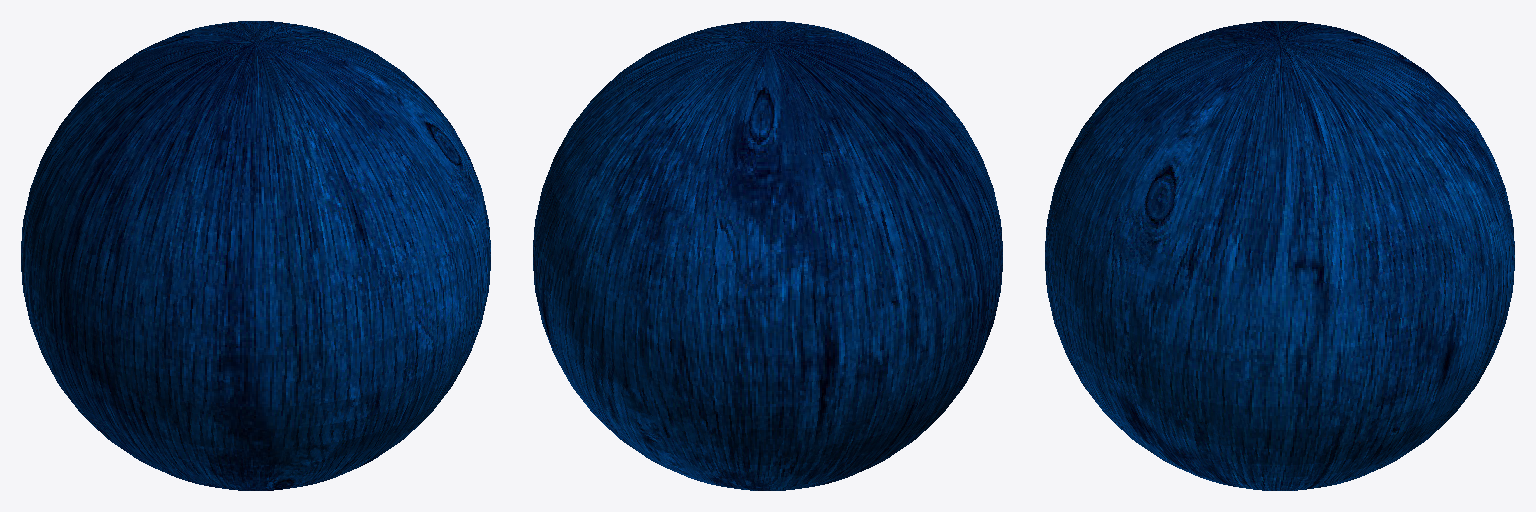
3 renders of one model, left to right at view 1: azimuth 30°, elevation 25°; view 2: azimuth 150°, elevation 25°; view 3: azimuth 270°, elevation 25°, orthographic.
Visible parts, largest first — view 1: pianeta; view 2: pianeta; view 3: pianeta.
Part boxes in pixels (x1,y1,x2,y2): pianeta: (21, 21, 490, 490); pianeta: (533, 21, 1002, 490); pianeta: (1045, 21, 1514, 490).
Size of the model in its own units: 2 by 2 by 2.
Materials: 1 (1 with a texture image).